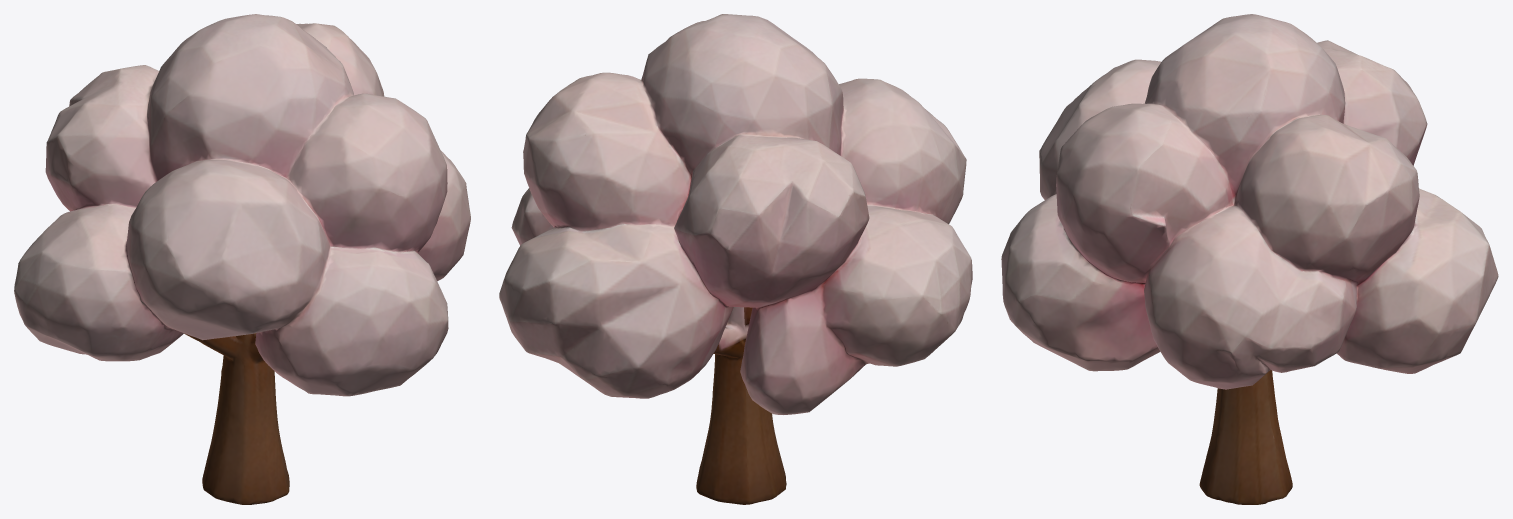
File: 롯데_벚나무.glb
The picture shows the model from 3 angles, left to right: view 1: azimuth 30°, elevation 25°; view 2: azimuth 150°, elevation 25°; view 3: azimuth 270°, elevation 25°; orthographic projection.
Parts seen in each view (by area): view 1: texture_mapping; view 2: texture_mapping; view 3: texture_mapping.
Boxes of the visible parts, x1,y1,x2,y2 form: texture_mapping: [14, 14, 470, 504]; texture_mapping: [499, 14, 972, 504]; texture_mapping: [1001, 14, 1498, 504].
Size of the model in its own units: 0.9789 by 1 by 0.9712.
Materials: 1 (1 with a texture image).
